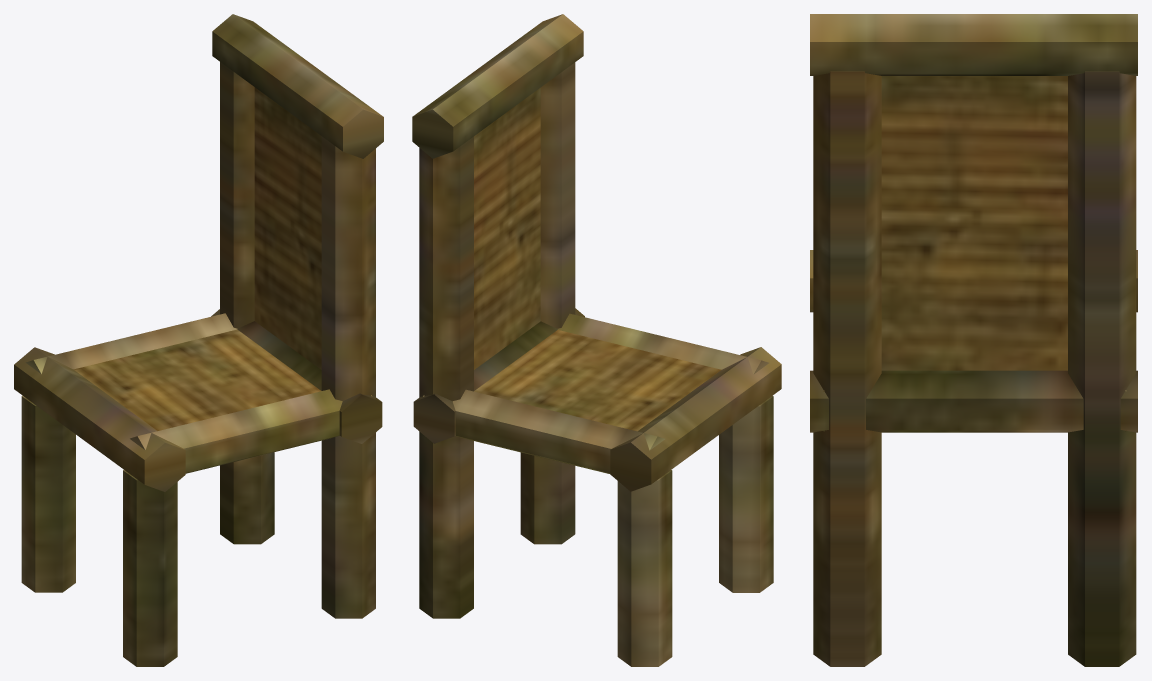
File: Chair.fbx
3 renders of one model, left to right at view 1: azimuth 30°, elevation 25°; view 2: azimuth 150°, elevation 25°; view 3: azimuth 270°, elevation 25°, orthographic. The views are drawn at different scales.
Visible parts, largest first — view 1: Chair; view 2: Chair; view 3: Chair.
Boxes of the visible parts, x1,y1,x2,y2 form: Chair: [14, 14, 383, 666]; Chair: [412, 14, 781, 666]; Chair: [810, 14, 1137, 666].
Size of the model in its own units: 0.7959 by 0.7516 by 1.62.
Materials: 1 (1 with a texture image).
